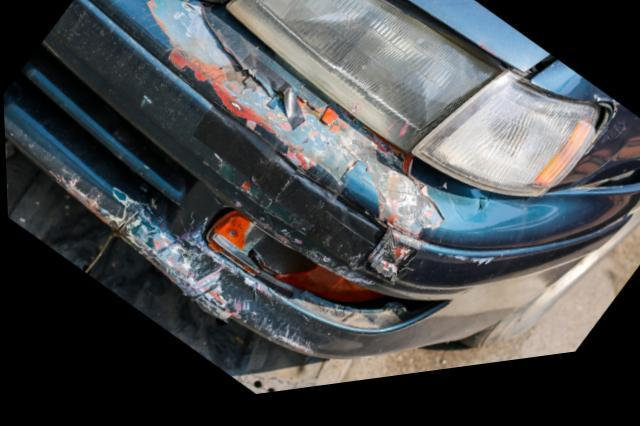scratch: (133, 0, 441, 294), (62, 179, 308, 355)
